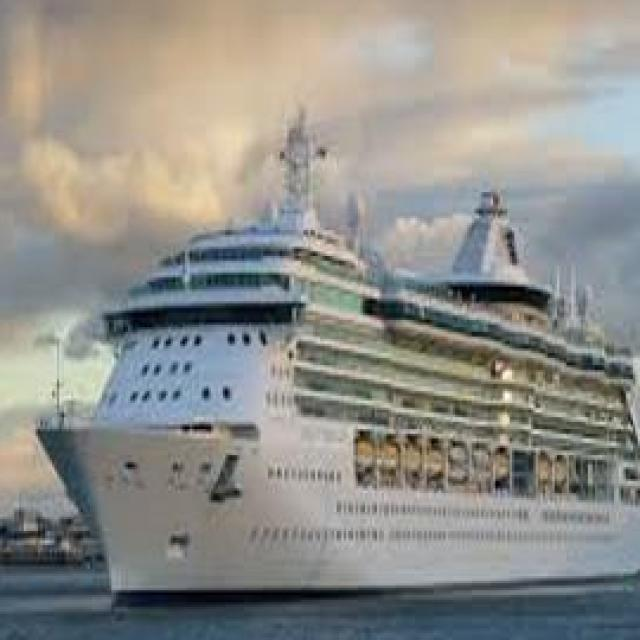passenger ship: (45, 208, 640, 606)
